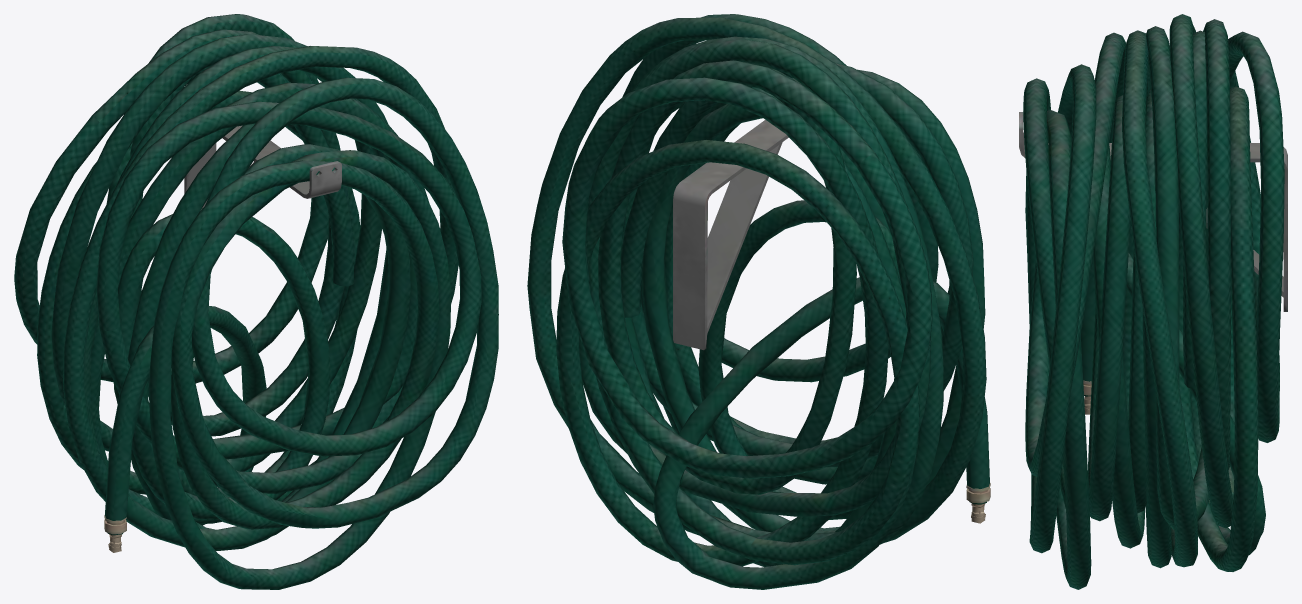
Rendered from garden_hose_wall_mounted_01.b56214ff.glb.
3 renders of one model, left to right at view 1: azimuth 30°, elevation 25°; view 2: azimuth 150°, elevation 25°; view 3: azimuth 270°, elevation 25°, orthographic. The views are drawn at different scales.
Visible parts, largest first — view 1: garden_hose, garden_hose_wall_bracket; view 2: garden_hose, garden_hose_wall_bracket; view 3: garden_hose, garden_hose_wall_bracket.
Boxes of the visible parts, x1,y1,x2,y2 form: garden_hose: (14,14,498,589); garden_hose_wall_bracket: (184,125,341,207); garden_hose: (527,14,990,589); garden_hose_wall_bracket: (673,120,788,350); garden_hose: (1023,14,1284,589); garden_hose_wall_bracket: (1019,112,1287,311).
Bounding box in the file's own units: 0.8379 × 1 × 0.4494.
1 material, 1 textured.
